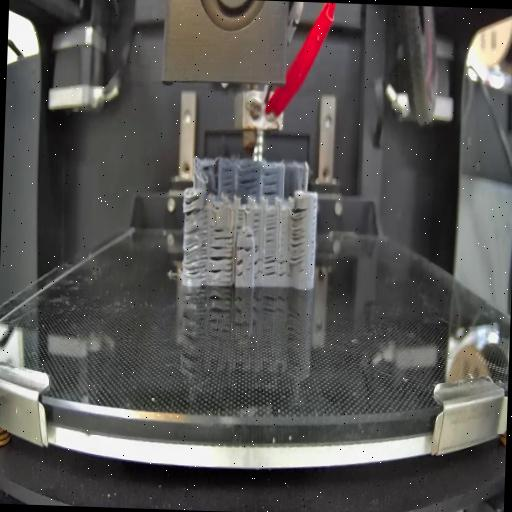cracks: (182, 226, 208, 278), (288, 204, 308, 268), (210, 242, 234, 282), (253, 254, 288, 278), (238, 166, 259, 194), (184, 190, 206, 216), (220, 164, 236, 192), (264, 212, 277, 246), (214, 223, 234, 243), (264, 172, 279, 194), (237, 241, 260, 253), (234, 256, 246, 279), (252, 208, 264, 230), (236, 210, 244, 230), (242, 230, 254, 240), (202, 162, 210, 172)
